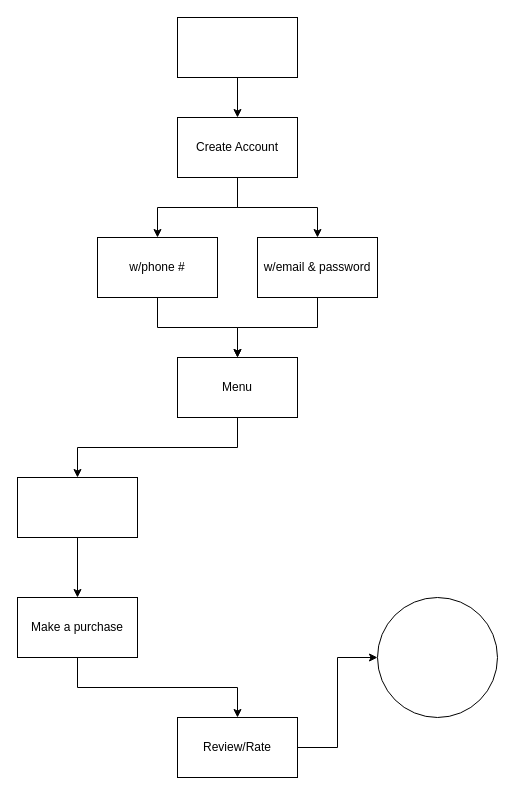
This 515x795 diagram has some shape labels left out. Here are the shapes that lost their labels. From the top down, the box of each, then its label:
(176, 16, 298, 78): New User
(16, 476, 138, 538): View Trucks
(376, 596, 498, 718): Return to Menu
